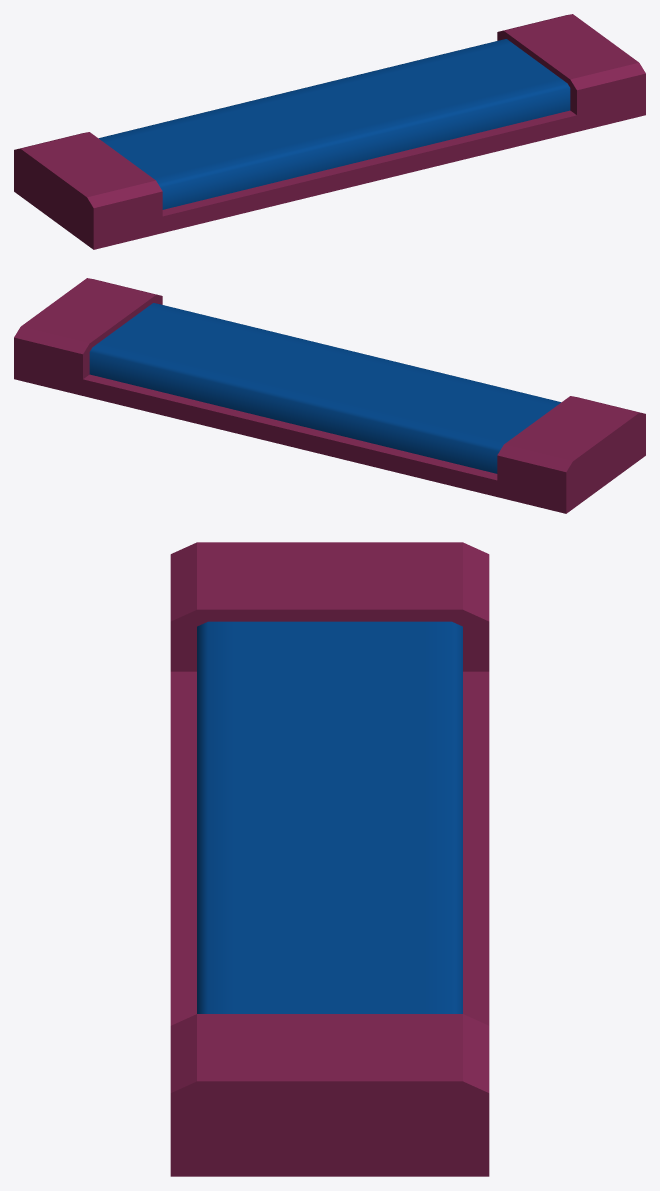
File: ceiling_light.FBX
The picture shows the model from 3 angles, top to bottom: view 1: azimuth 30°, elevation 25°; view 2: azimuth 150°, elevation 25°; view 3: azimuth 270°, elevation 25°; orthographic projection. The views are drawn at different scales.
Parts seen in each view (by area): view 1: barlight; view 2: barlight; view 3: barlight.
Part boxes in pixels (x1=…): barlight: x1=14, y1=14, x2=645, y2=249; barlight: x1=14, y1=278, x2=645, y2=513; barlight: x1=170, y1=542, x2=489, y2=1176.
Bounding box in the file's own units: 12000 × 990 × 3000.
